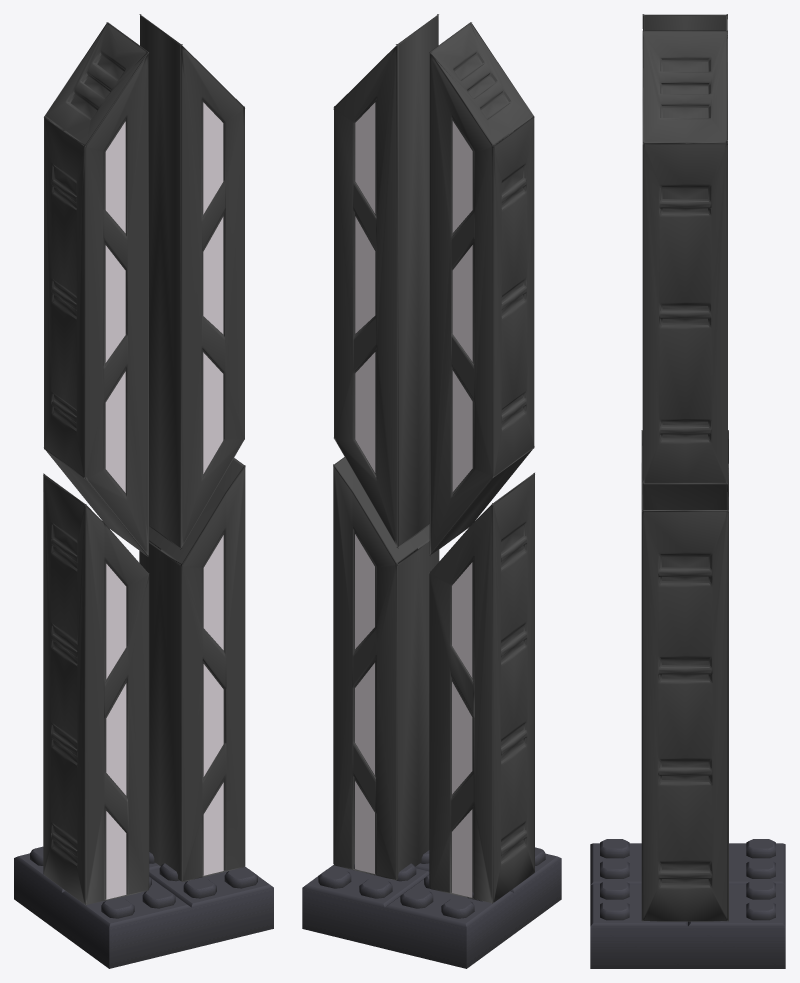
The model's file is tower.glb.
The picture shows the model from 3 angles, left to right: view 1: azimuth 30°, elevation 25°; view 2: azimuth 150°, elevation 25°; view 3: azimuth 270°, elevation 25°; orthographic projection. The views are drawn at different scales.
Visible parts, largest first — view 1: tower, light, root; view 2: tower, light, root; view 3: tower, root.
Part boxes in pixels (bbox=[...]): tower: bbox=[43, 14, 245, 905]; light: bbox=[105, 102, 223, 899]; root: bbox=[14, 846, 273, 968]; tower: bbox=[333, 14, 534, 903]; light: bbox=[355, 102, 472, 897]; root: bbox=[302, 847, 561, 968]; tower: bbox=[641, 14, 728, 921]; root: bbox=[590, 839, 785, 968].
Size of the model in its own units: 0.3996 by 2.04 by 0.4.
Materials: 3 (1 with a texture image).
